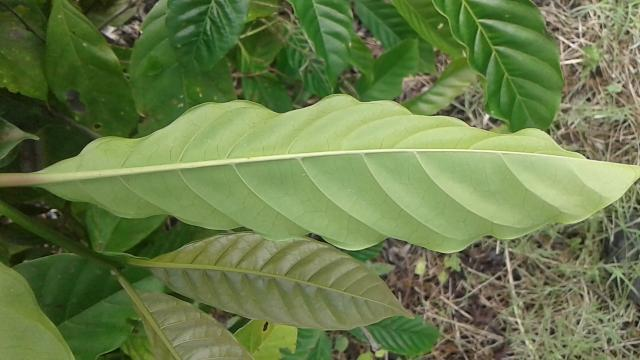healthy: (30, 84, 640, 256)
